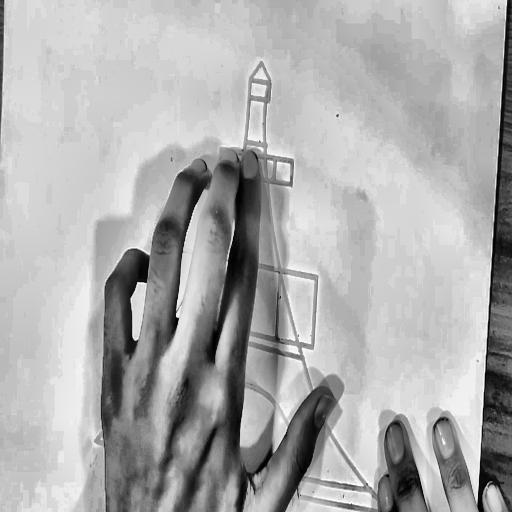eiffel-tower: (84, 23, 420, 512)
